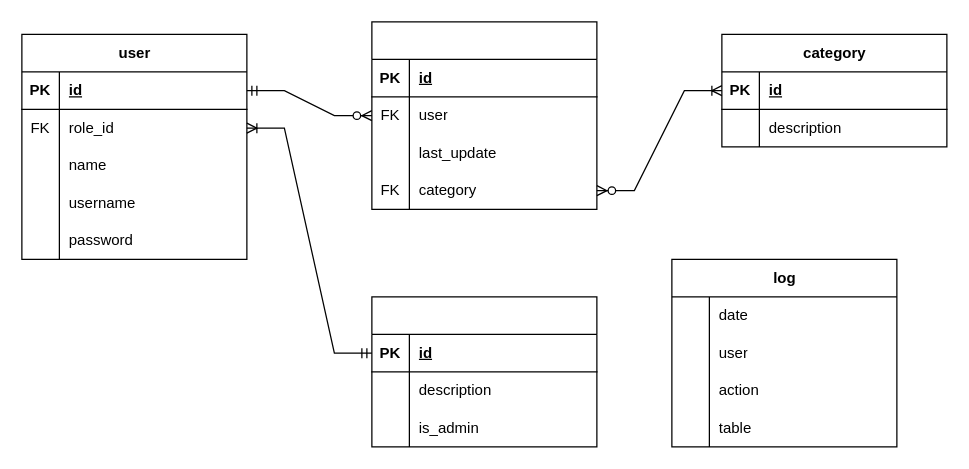
Some shapes in this 969 by 469 pixel diagram are drawn without their labels. Here are the shapes that lost their labels. From the top down, the box of each, then its label:
(371, 21, 597, 209): item
(371, 296, 597, 447): role
